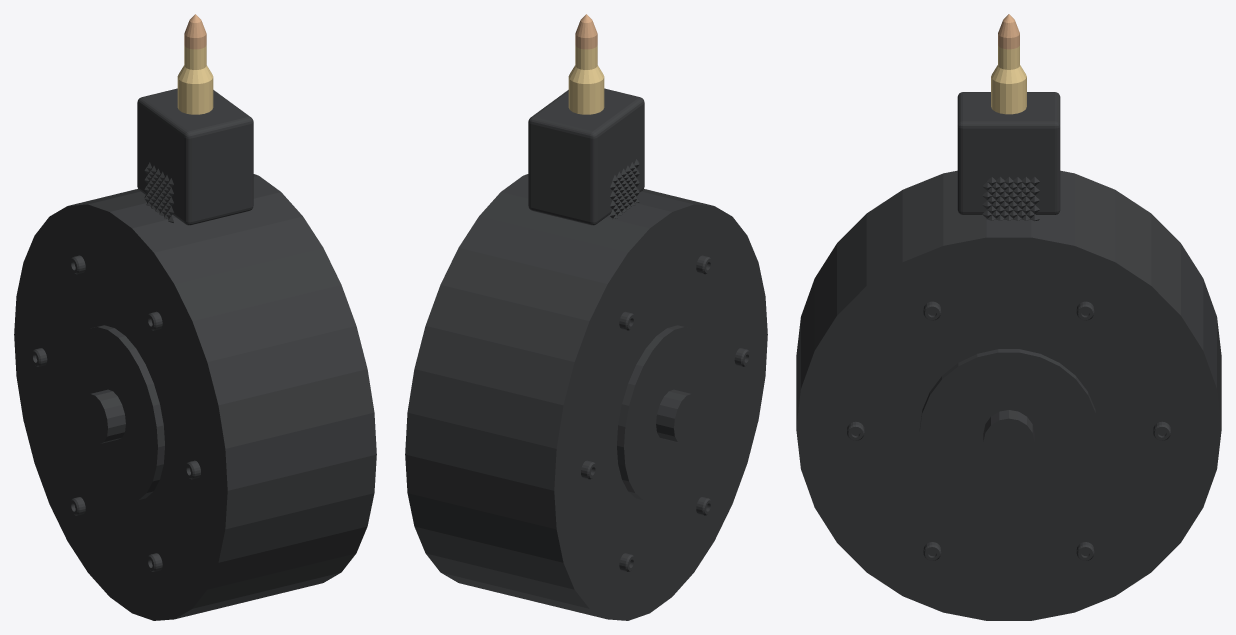
The model's file is mod-carbine-magazine-33392.glb.
3 renders of one model, left to right at view 1: azimuth 30°, elevation 25°; view 2: azimuth 150°, elevation 25°; view 3: azimuth 270°, elevation 25°, orthographic.
Bounding box in the file's own units: 1.34 × 3.65 × 2.47.
